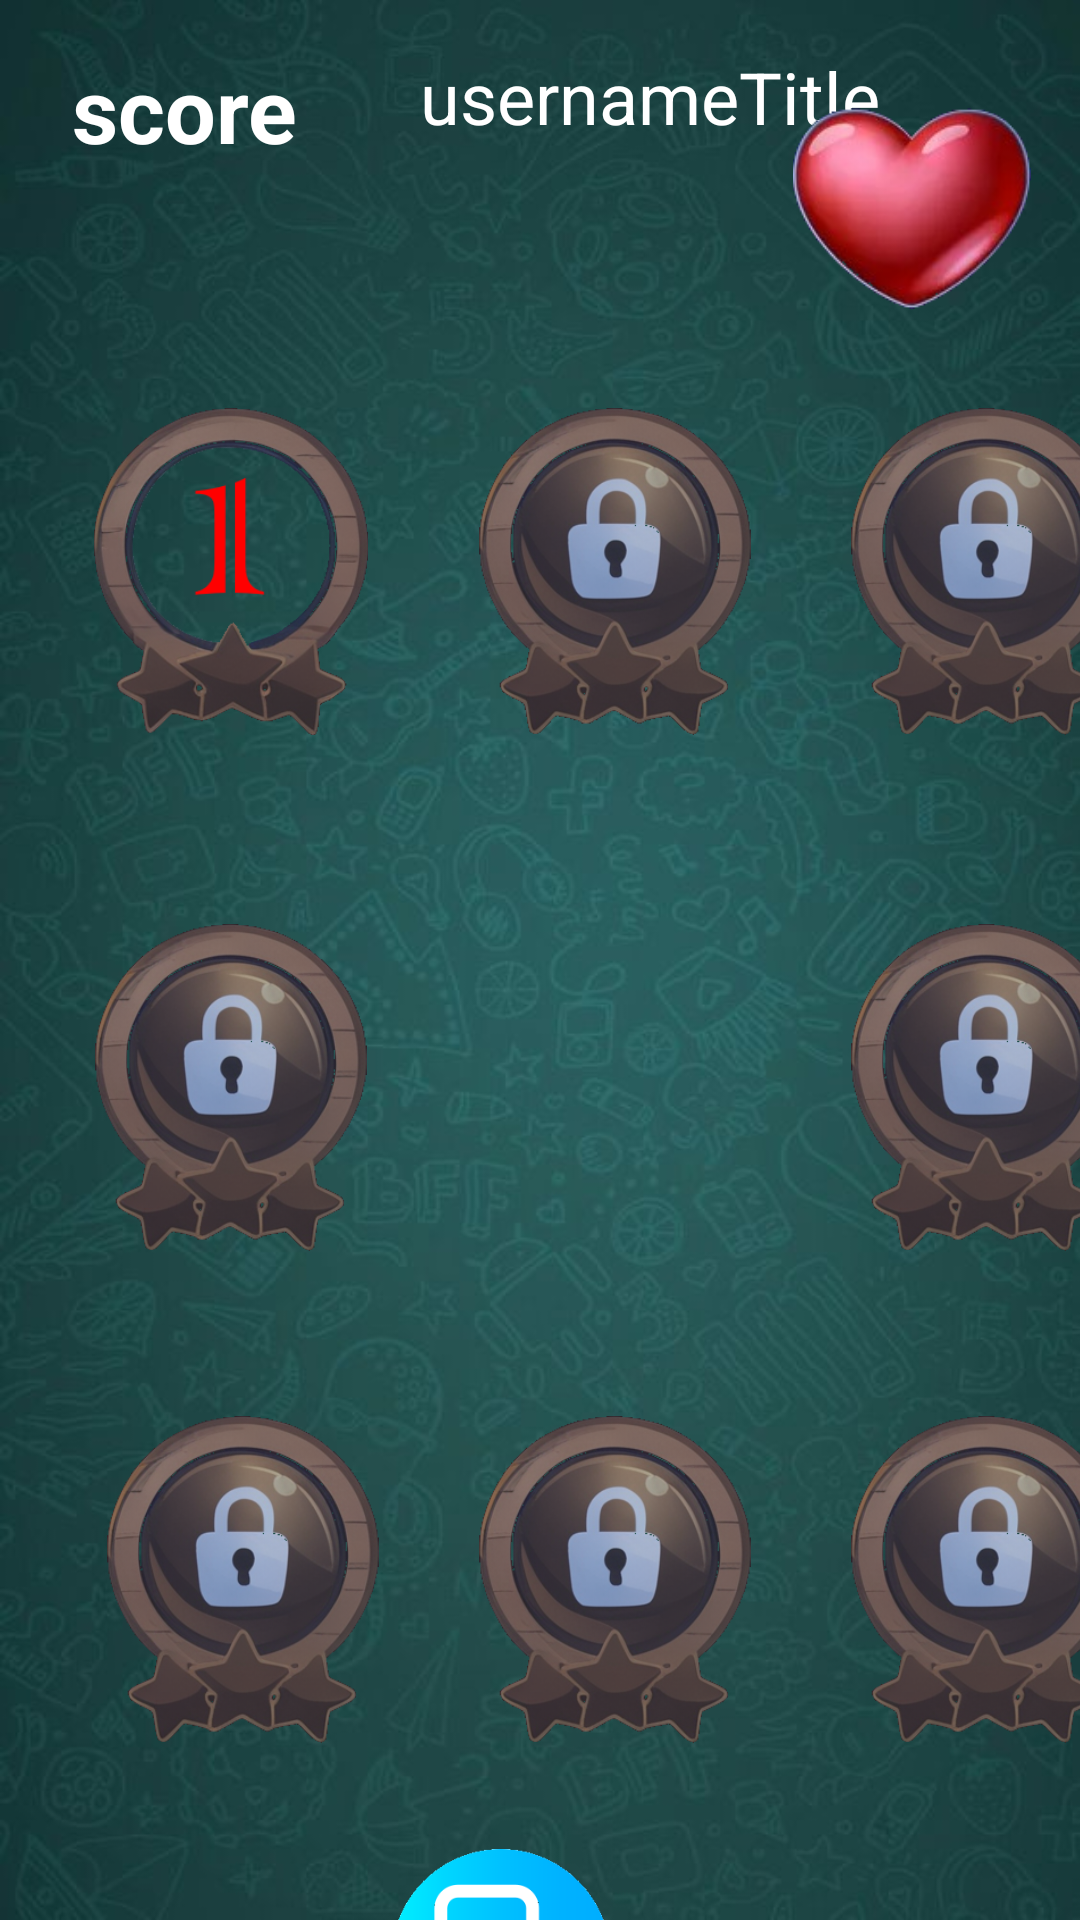

Point at icon controls on the screen. Image size 1080px×1920px, points as (x=x, y=y).
life: (x=911, y=208)
lvl1: (x=242, y=571)
lvl2: (x=615, y=571)
lvl4: (x=242, y=1087)
